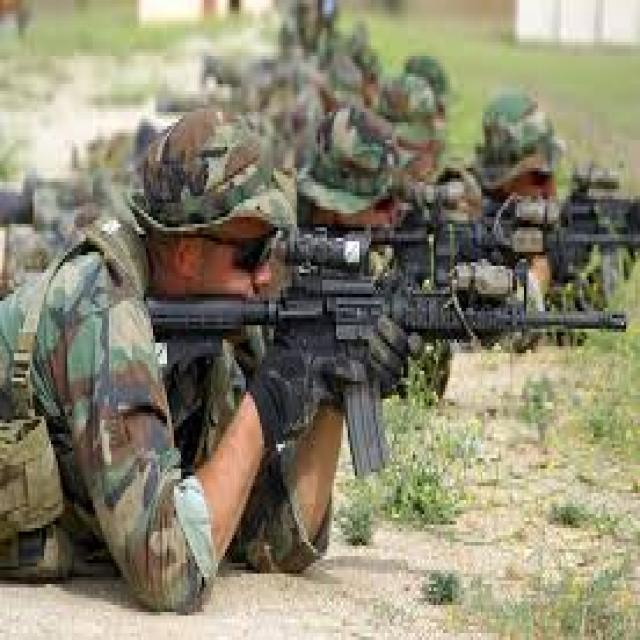m16: (140, 208, 637, 546)
